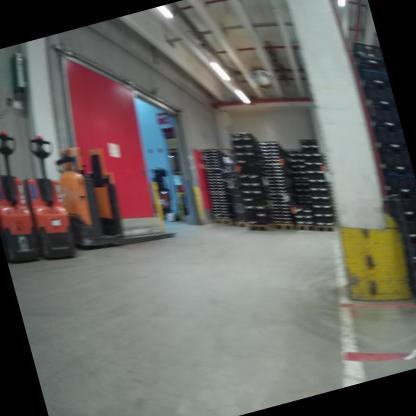pallet: (209, 210, 235, 232), (293, 217, 317, 237), (313, 218, 337, 237), (269, 218, 298, 233), (232, 215, 254, 230), (248, 217, 271, 231), (405, 254, 416, 280)
pallet_truck: (43, 108, 184, 268), (3, 115, 97, 273), (0, 119, 57, 270), (0, 192, 19, 265)
